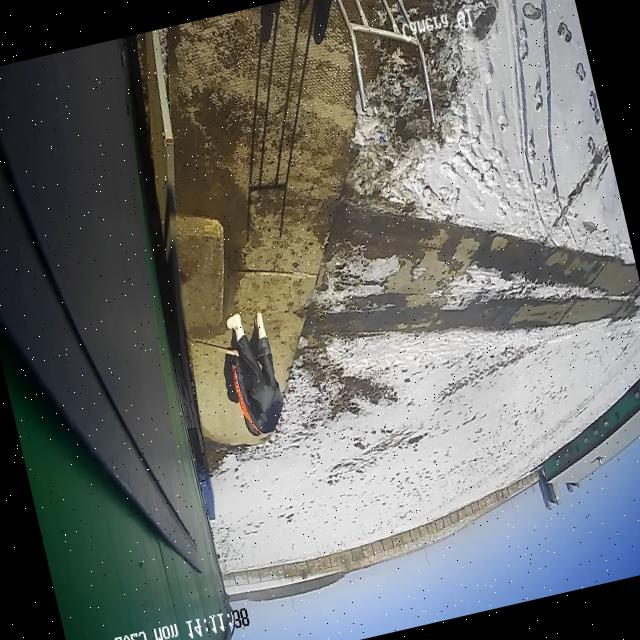Red uniform: (208, 303, 293, 444)
